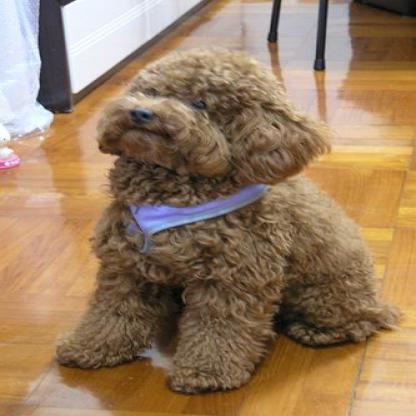toy_poodle: (52, 46, 400, 392)
